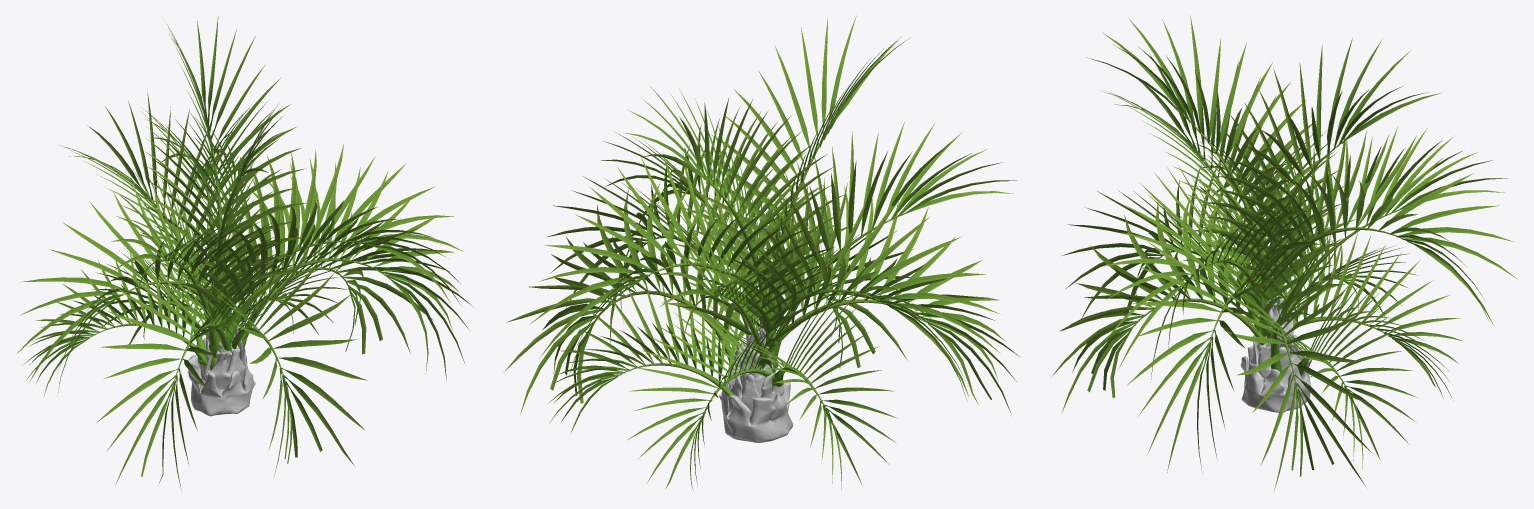
3 renders of one model, left to right at view 1: azimuth 30°, elevation 25°; view 2: azimuth 150°, elevation 25°; view 3: azimuth 270°, elevation 25°, orthographic. The views are drawn at different scales.
Parts seen in each view (by area): view 1: Leaves, Trunk; view 2: Leaves, Trunk; view 3: Leaves, Trunk.
Boxes of the visible parts, x1,y1,x2,y2 form: Leaves: (16, 16, 471, 491); Trunk: (187, 309, 255, 416); Leaves: (503, 16, 1019, 490); Trunk: (719, 325, 793, 442); Leaves: (1051, 15, 1517, 491); Trunk: (1240, 298, 1311, 412).
Size of the model in its own units: 87.32 by 68.41 by 80.89.
